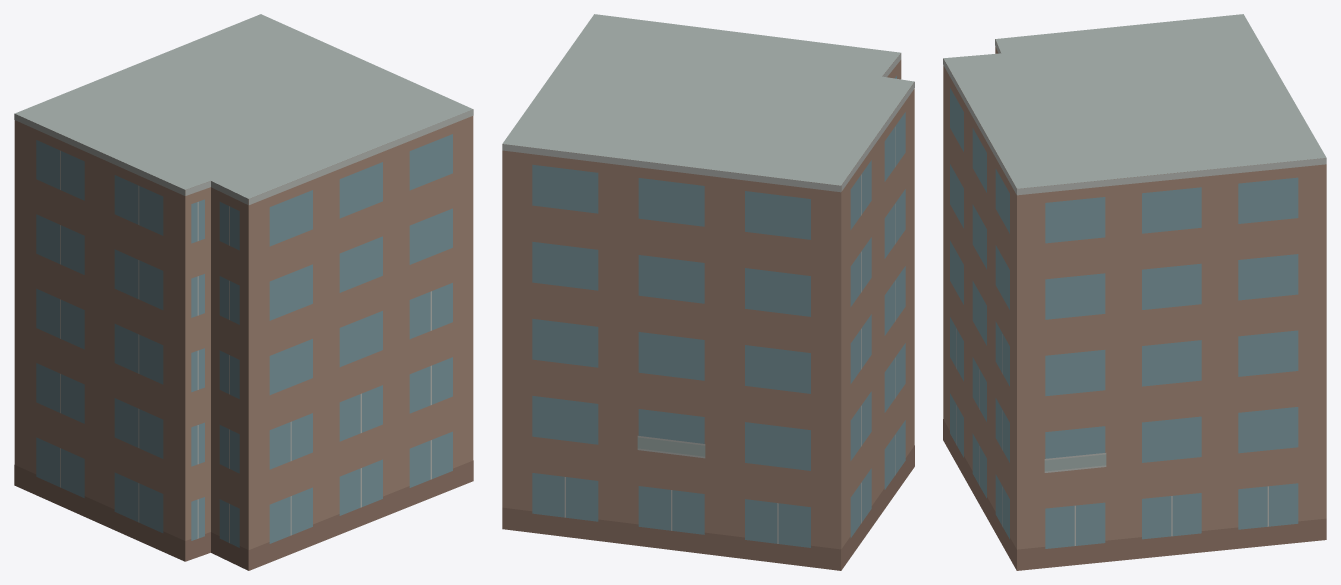
File: survey-upis-32715906.glb
3 views of the same model, side by side, from view 1: azimuth 30°, elevation 25°; view 2: azimuth 150°, elevation 25°; view 3: azimuth 270°, elevation 25° (orthographic). The views are drawn at different scales.
Visible parts, largest first — view 1: survey-upis-32715906.tmp; view 2: survey-upis-32715906.tmp; view 3: survey-upis-32715906.tmp.
Boxes of the visible parts, box(x1,y1,x2,y2) form: survey-upis-32715906.tmp: box(14, 14, 473, 570); survey-upis-32715906.tmp: box(502, 14, 914, 570); survey-upis-32715906.tmp: box(943, 14, 1326, 570).
Bounding box in the file's own units: 14.04 × 14.3 × 13.01.
